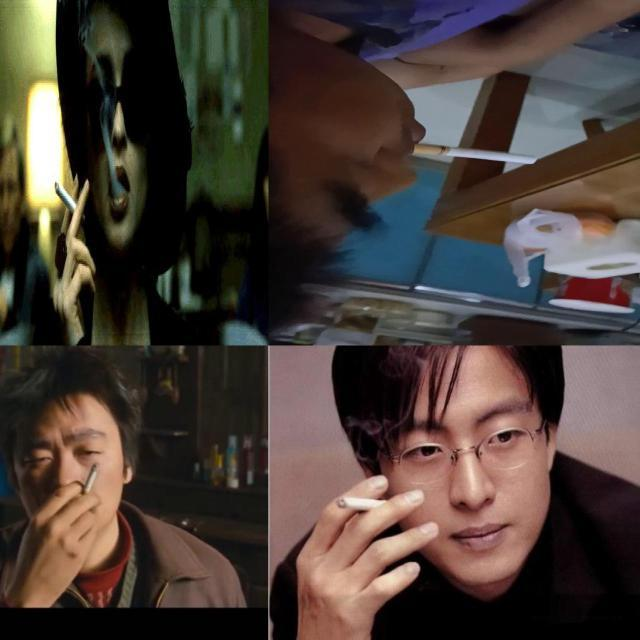smoking: (412, 143, 540, 165), (54, 178, 86, 226), (335, 496, 393, 512), (80, 460, 103, 500)
